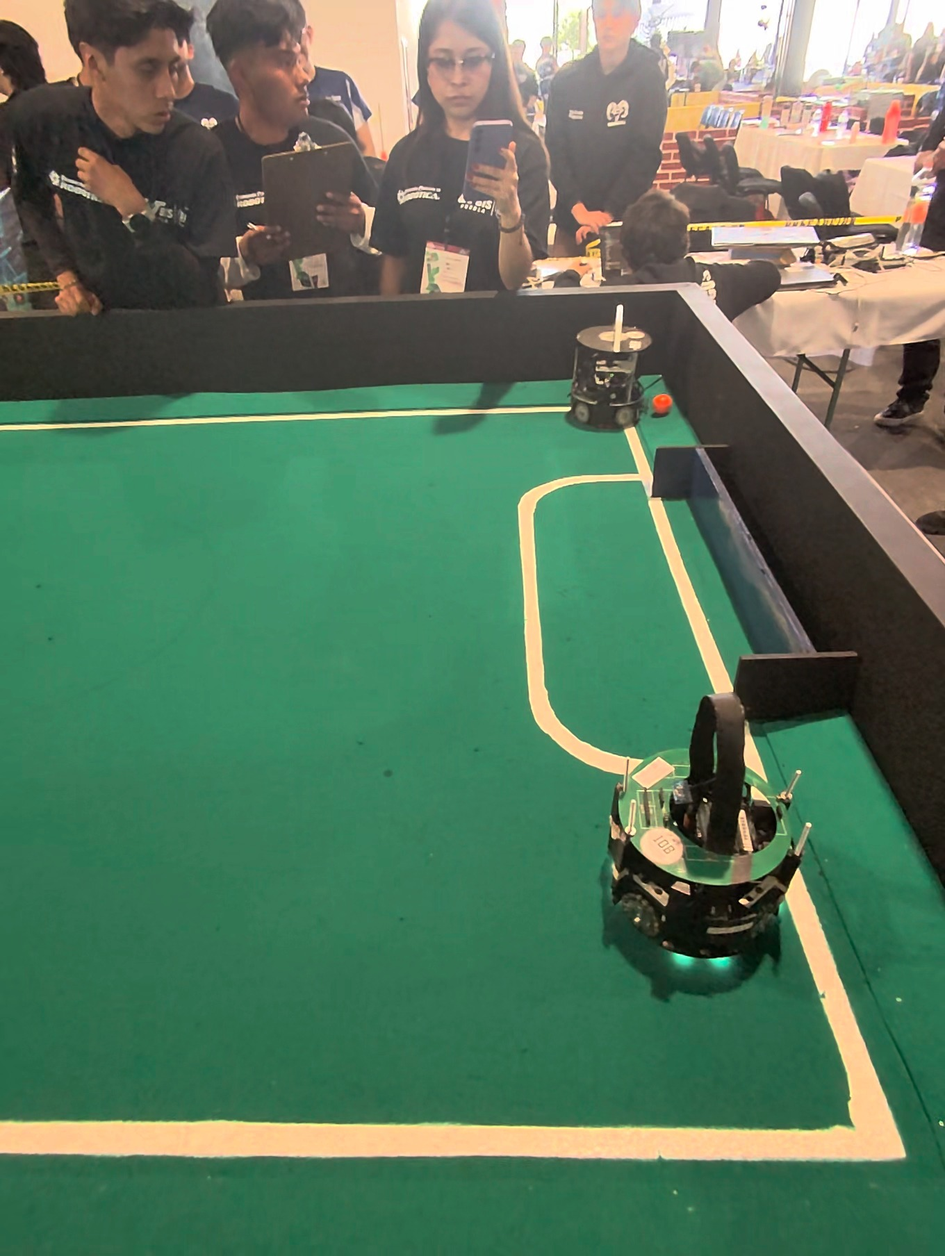Robot: (589, 686, 841, 1009), (563, 311, 676, 439)
pelota: (649, 384, 693, 431)
